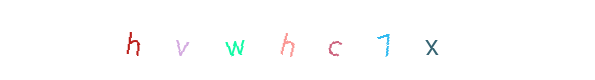7: (302, 0, 382, 80)
C: (257, 0, 337, 80)
H: (92, 0, 172, 80), (243, 0, 323, 80)
V: (195, 0, 275, 80)
W: (206, 0, 286, 80)
X: (391, 0, 471, 80)
